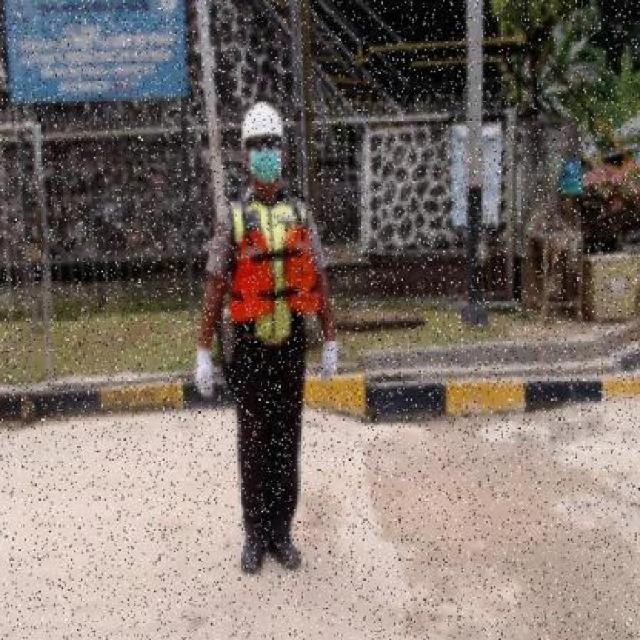Boots: (240, 535, 268, 577), (268, 539, 303, 570)
Gloves: (192, 344, 217, 402), (317, 337, 340, 386)
Helmet: (241, 100, 287, 140)
Mask: (250, 152, 281, 183)
Protective Glasses: (248, 137, 280, 152)
Vest: (228, 224, 322, 324)
